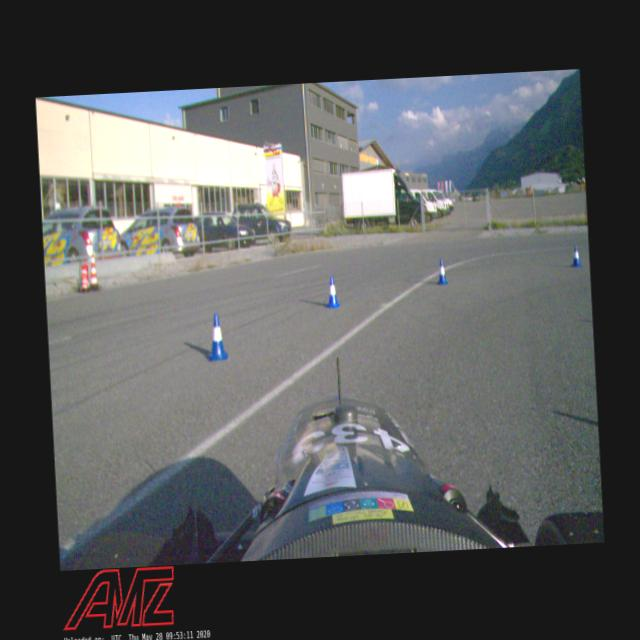blue_cone: (206, 313, 229, 362), (325, 276, 340, 308), (437, 260, 448, 284), (571, 245, 582, 268)
